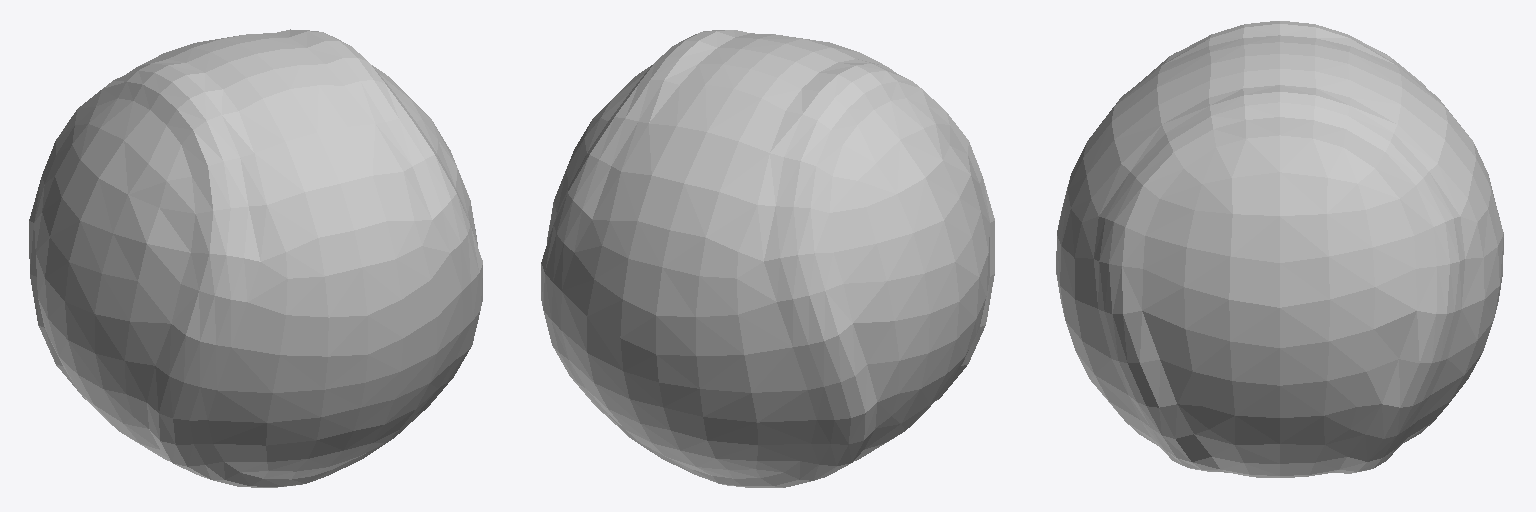
Rendered from baseball.obj.
3 views of the same model, side by side, from view 1: azimuth 30°, elevation 25°; view 2: azimuth 150°, elevation 25°; view 3: azimuth 270°, elevation 25° (orthographic).
Parts seen in each view (by area): view 1: baseball_uploads_files_732020_baseball_ball_01.001; view 2: baseball_uploads_files_732020_baseball_ball_01.001; view 3: baseball_uploads_files_732020_baseball_ball_01.001.
Part boxes in pixels (x1,y1,x2,y2): baseball_uploads_files_732020_baseball_ball_01.001: (29,29,482,487); baseball_uploads_files_732020_baseball_ball_01.001: (541,30,994,487); baseball_uploads_files_732020_baseball_ball_01.001: (1056,21,1503,477).
Bounding box in the file's own units: 0.9921 × 1 × 1.01.